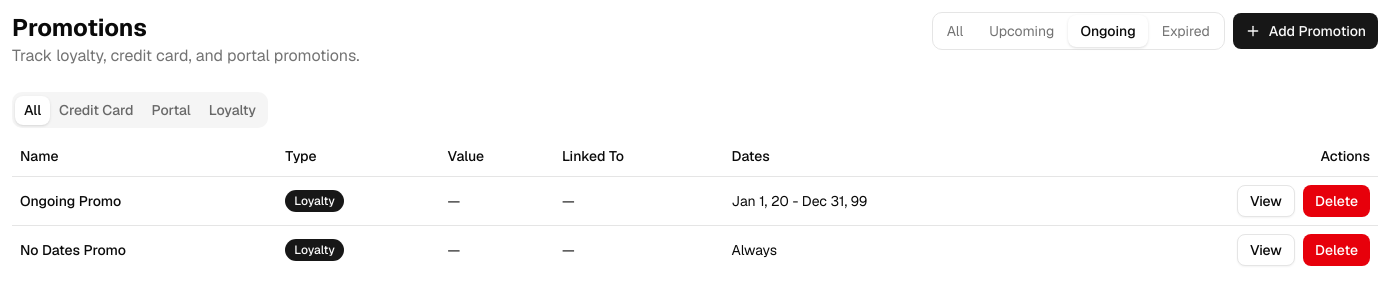
PromotionsPage status filter › shows upcoming promos under Upcoming filter
The width and height of the screenshot is (1378, 290).
Expected: the element with test id "promotions-list-desktop" is shown, [12, 136, 1377, 274]
Click the button with test id "status-filter-upcoming": click(1022, 31) [977, 15, 1066, 47]
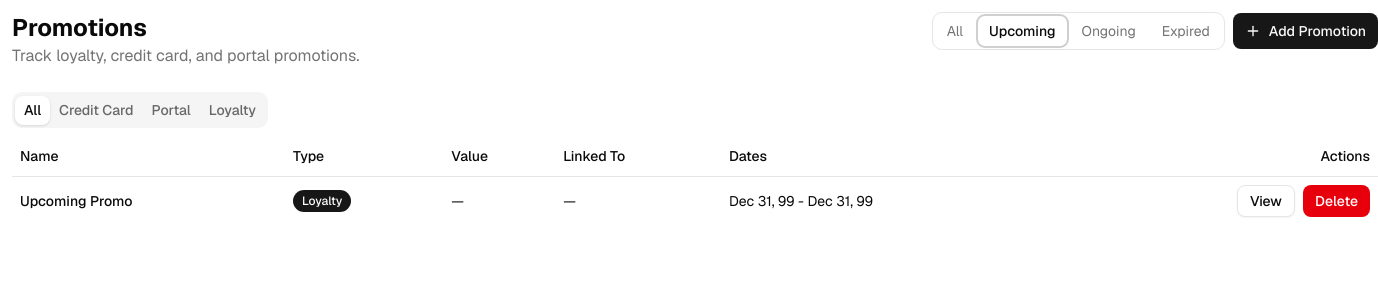
Now the link "Upcoming Promo" is shown, box [20, 192, 132, 210]
Now the link "Ongoing Promo" is gone
